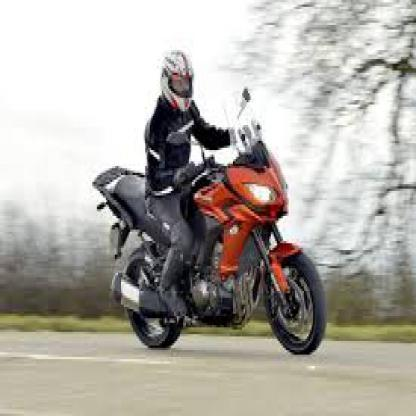Motorcycle: (87, 134, 330, 359)
